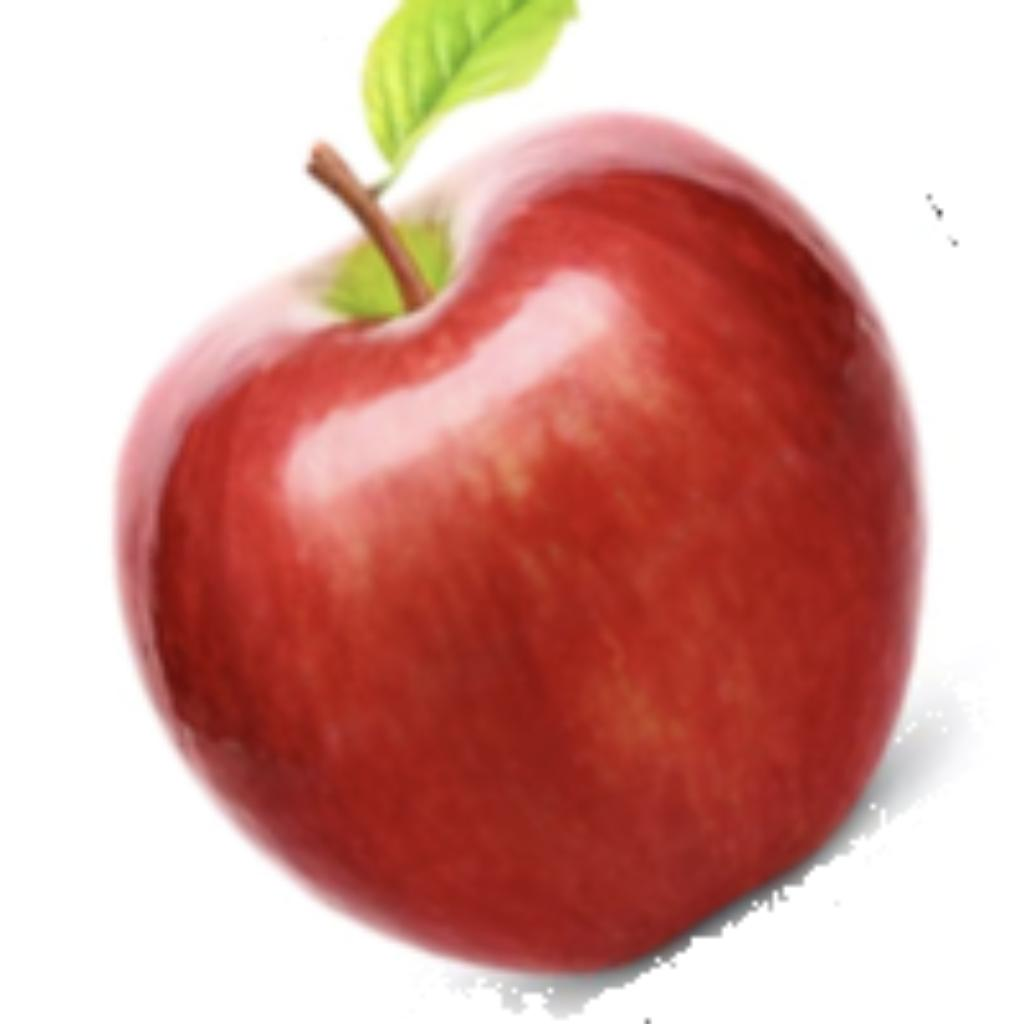apple: (102, 0, 983, 1019)
